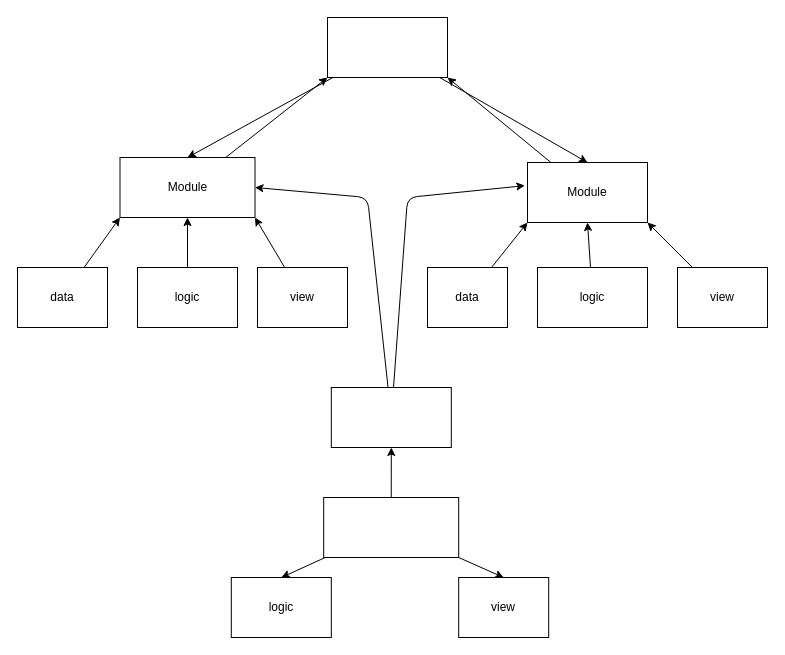
The diagram is 785 pixels wide and 655 high, and some of its shapes have lost their labels. Here are the shapes that lost their labels. From the top down, the box of each, then its label:
(326, 16, 448, 78): shared data (store)
(330, 386, 451, 448): shared view and llogic
(323, 496, 459, 558): shared module
